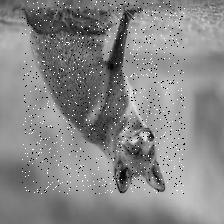fox: (22, 0, 185, 194)
